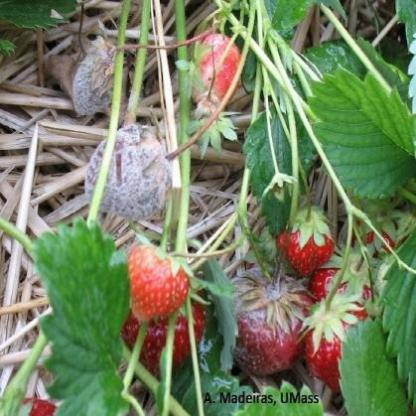Strawberry_Gray_Mold: (216, 267, 316, 378), (84, 124, 176, 221), (72, 40, 124, 116)
